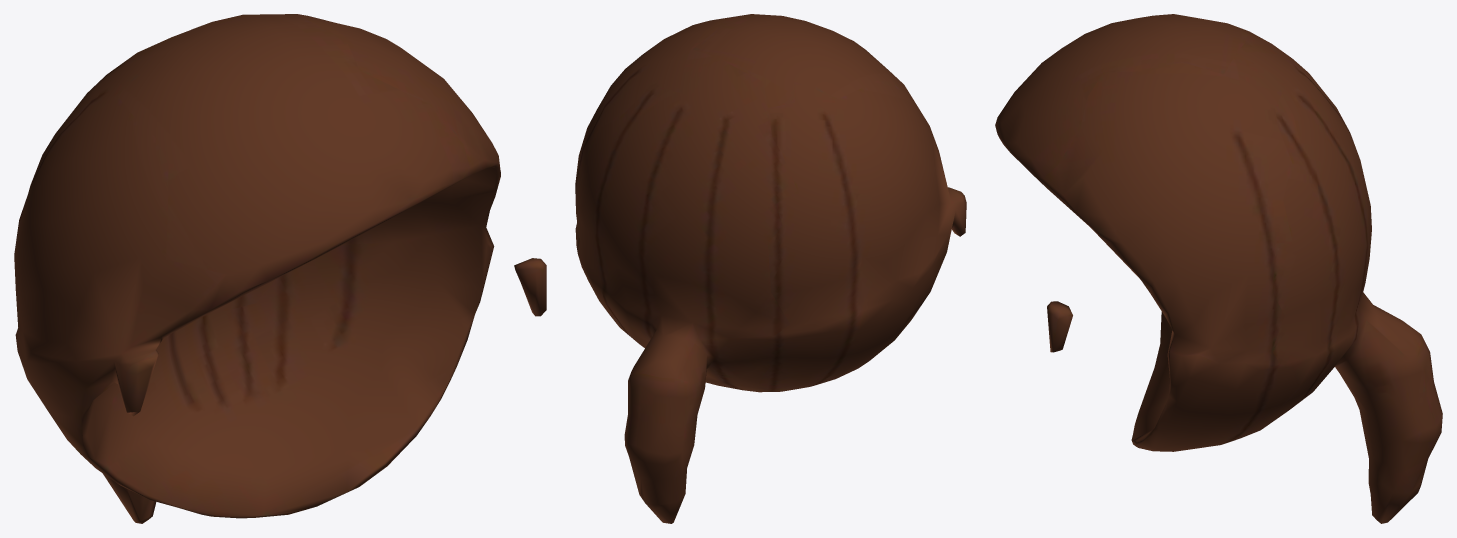
The model's file is avatar-hair-ponytail.capped.glb.
The picture shows the model from 3 angles, left to right: view 1: azimuth 30°, elevation 25°; view 2: azimuth 150°, elevation 25°; view 3: azimuth 270°, elevation 25°; orthographic projection. The views are drawn at different scales.
Visible parts, largest first — view 1: hair; view 2: hair; view 3: hair.
Part boxes in pixels (x1,y1,x2,y2): hair: (14, 14, 546, 523); hair: (575, 14, 966, 523); hair: (995, 14, 1442, 523).
Bounding box in the file's own units: 0.4278 × 0.5177 × 0.4318.
1 material, 1 textured.
